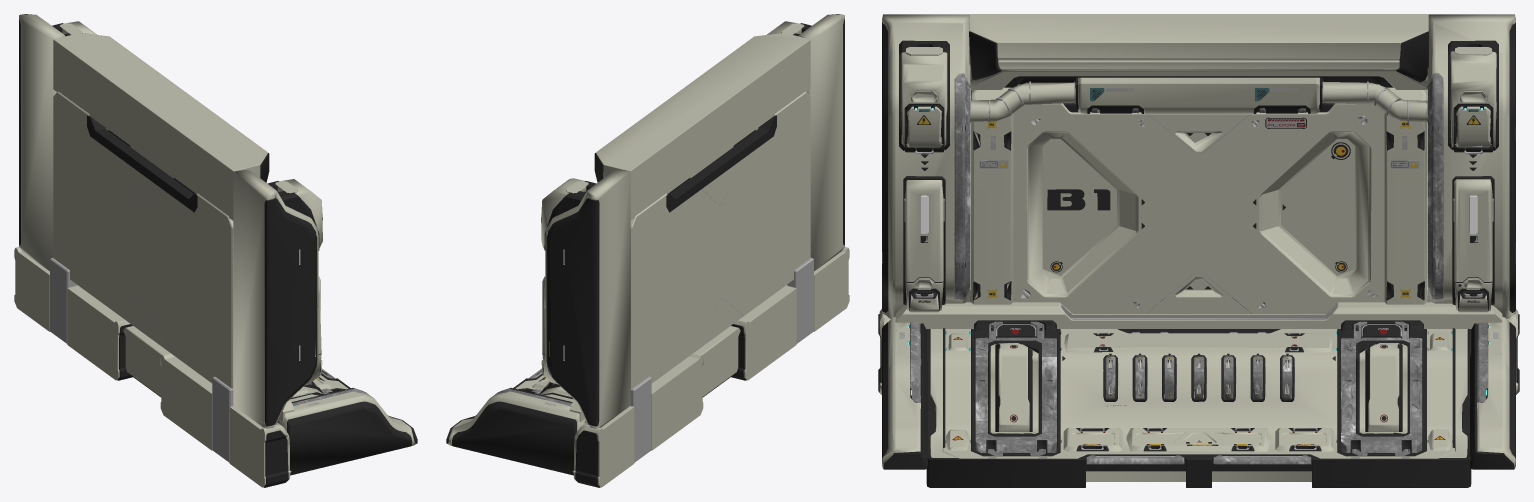
File: wall.glb
3 views of the same model, side by side, from view 1: azimuth 30°, elevation 25°; view 2: azimuth 150°, elevation 25°; view 3: azimuth 270°, elevation 25° (orthographic). The views are drawn at different scales.
Parts seen in each view (by area): view 1: Wall; view 2: Wall; view 3: Wall.
Part boxes in pixels (box(x1,y1,x2,y2)): Wall: box(14, 14, 417, 487); Wall: box(446, 14, 849, 487); Wall: box(878, 14, 1519, 487).
Bounding box in the file's own units: 1.58 × 2.93 × 4.46.
Materials: 11 (1 with a texture image).
